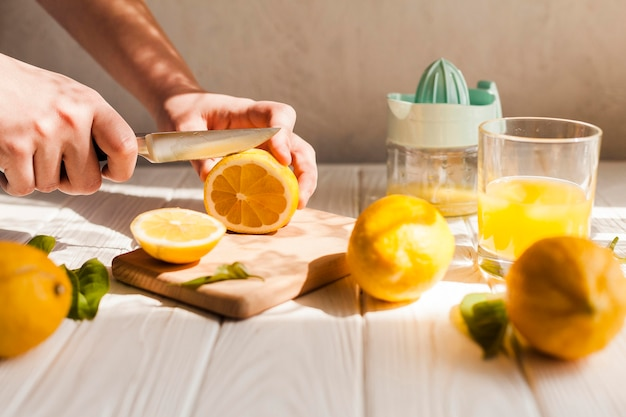knife: (136, 126, 283, 164)
